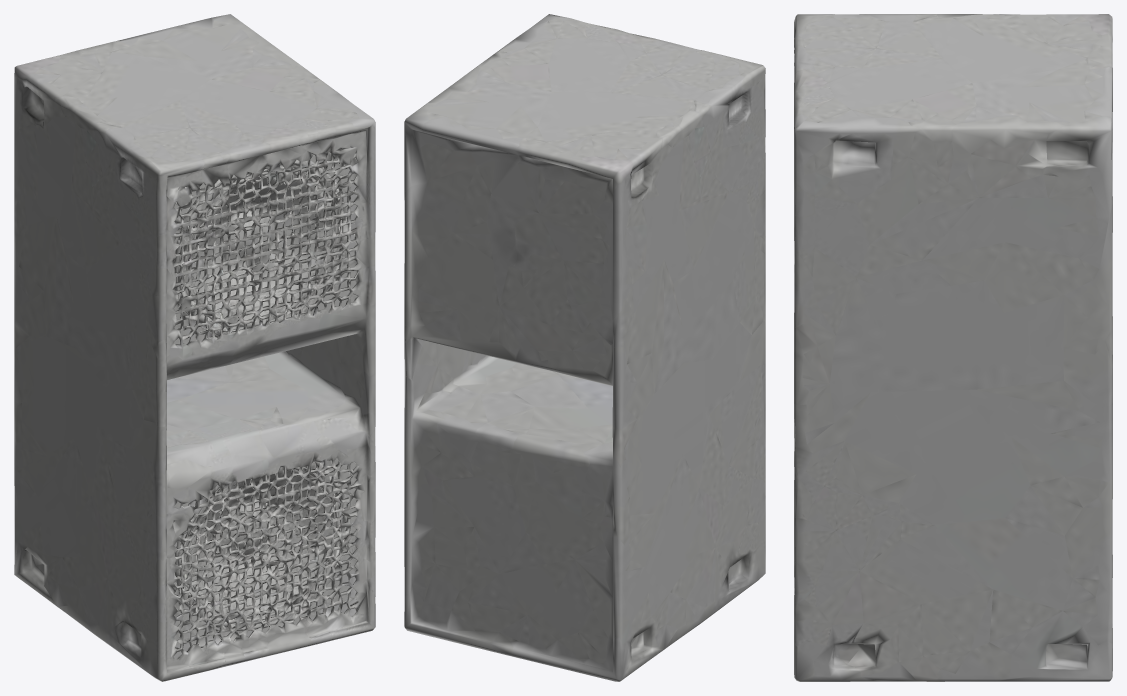
The model's file is speaker-3-lod.glb.
3 renders of one model, left to right at view 1: azimuth 30°, elevation 25°; view 2: azimuth 150°, elevation 25°; view 3: azimuth 270°, elevation 25°, orthographic. The views are drawn at different scales.
Parts seen in each view (by area): view 1: mesh_node; view 2: mesh_node; view 3: mesh_node.
Boxes of the visible parts, x1,y1,x2,y2 form: mesh_node: [14, 14, 375, 681]; mesh_node: [404, 14, 765, 681]; mesh_node: [794, 14, 1112, 681].
Bounding box in the file's own units: 0.89 × 2 × 1.04.
1 material, 1 textured.
